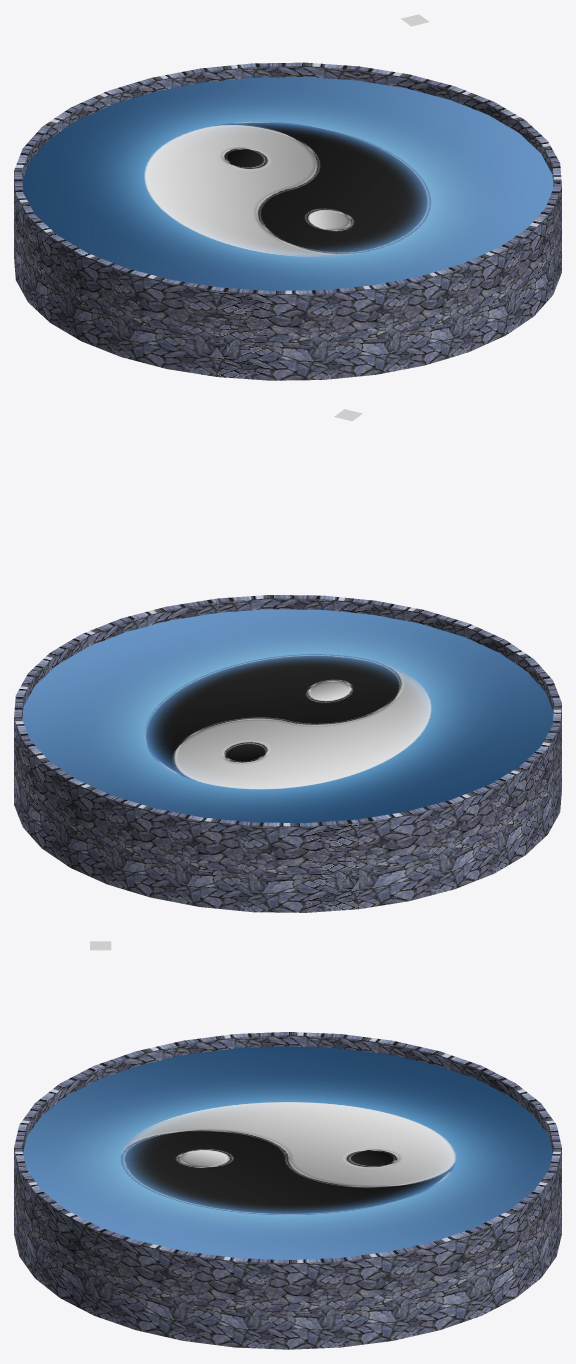
File: Level1.fbx
The picture shows the model from 3 angles, top to bottom: view 1: azimuth 30°, elevation 25°; view 2: azimuth 150°, elevation 25°; view 3: azimuth 270°, elevation 25°; orthographic projection.
Visible parts, largest first — view 1: WAVEPLANE, Circle.001; view 2: WAVEPLANE, Circle.001; view 3: WAVEPLANE, Circle.001.
Boxes of the visible parts, box(x1,y1,x2,y2) form: WAVEPLANE: box(22, 77, 553, 290); Circle.001: box(14, 62, 561, 380); WAVEPLANE: box(22, 609, 553, 823); Circle.001: box(14, 595, 561, 912); WAVEPLANE: box(23, 1046, 552, 1259); Circle.001: box(14, 1032, 561, 1349).
Size of what is drawn, in the model's own units: 5145 by 3153 by 5145.
